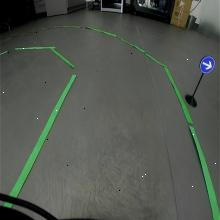right: (200, 55, 215, 74)
